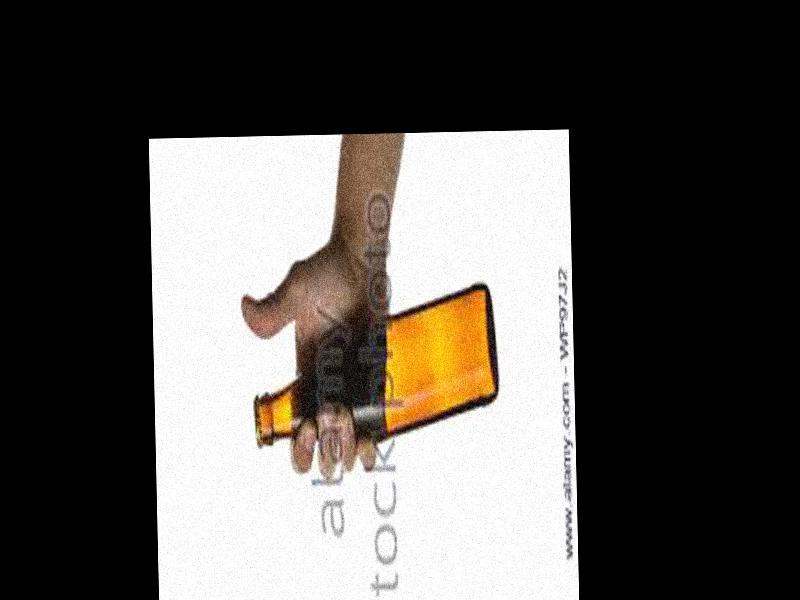Beer: (254, 280, 498, 452)
